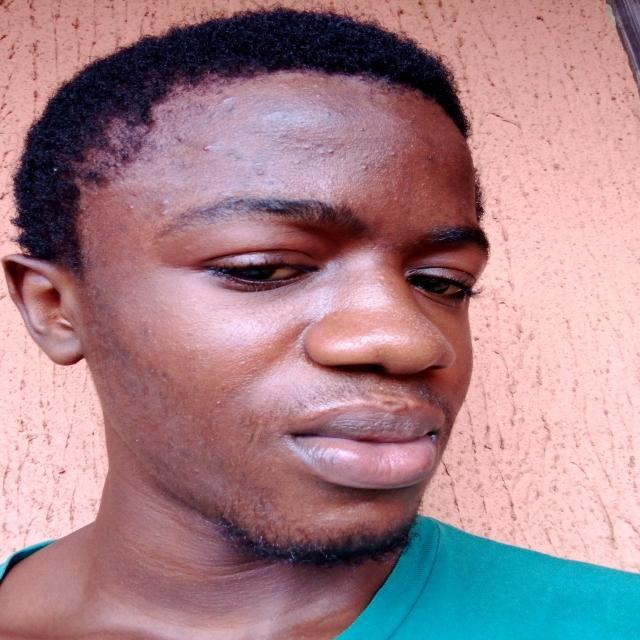Acne: (175, 126, 242, 170), (112, 184, 182, 224), (406, 141, 458, 190), (286, 133, 344, 172)
